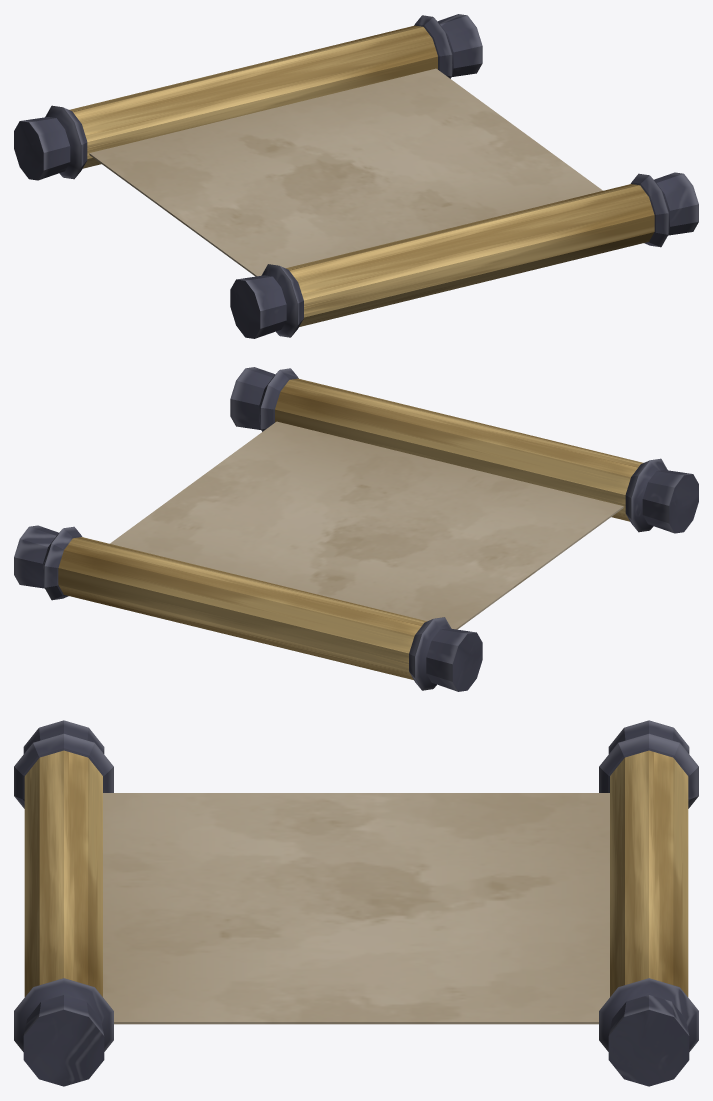
Rendered from Libra_std_ScrollOpen.fbx.
3 renders of one model, top to bottom at view 1: azimuth 30°, elevation 25°; view 2: azimuth 150°, elevation 25°; view 3: azimuth 270°, elevation 25°, orthographic. The views are drawn at different scales.
Parts seen in each view (by area): view 1: Libra_std_ScrollOpen; view 2: Libra_std_ScrollOpen; view 3: Libra_std_ScrollOpen.
Boxes of the visible parts, x1,y1,x2,y2 form: Libra_std_ScrollOpen: [14, 14, 698, 338]; Libra_std_ScrollOpen: [14, 367, 698, 691]; Libra_std_ScrollOpen: [14, 720, 698, 1086].
Bounding box in the file's own units: 0.1364 × 0.0209 × 0.1364.
